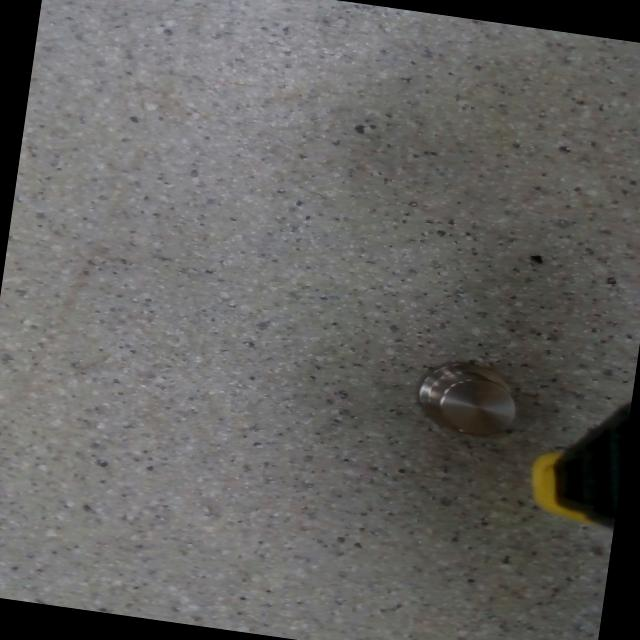sensor: (410, 352, 526, 443)
